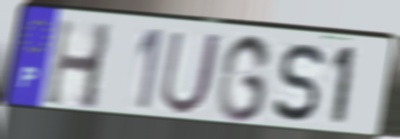1: (132, 25, 165, 114), (328, 44, 359, 128)
G: (213, 31, 275, 124)
H: (42, 16, 115, 113)
S: (270, 41, 327, 125)
U: (157, 28, 225, 117)
